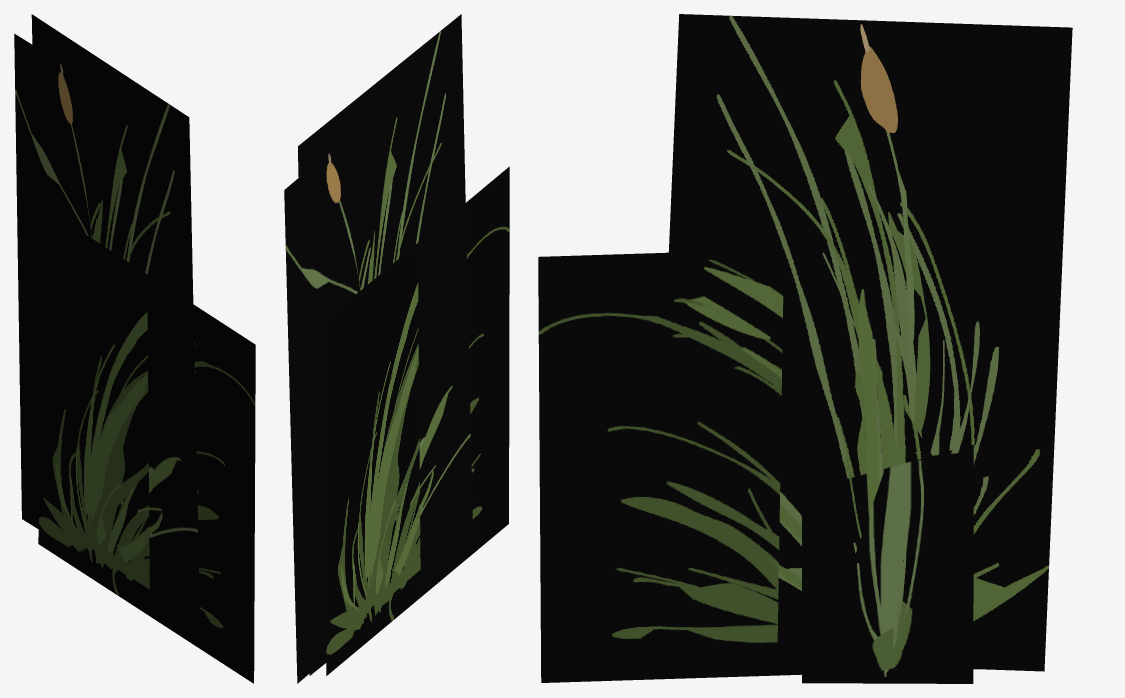
Rendered from GrassPack.fbx.
The picture shows the model from 3 angles, left to right: view 1: azimuth 30°, elevation 25°; view 2: azimuth 150°, elevation 25°; view 3: azimuth 270°, elevation 25°; orthographic projection. The views are drawn at different scales.
Parts seen in each view (by area): view 1: Grass3, grass5, Grass4; view 2: Grass3, grass5, Grass4; view 3: grass5, Grass3, Grass1, Grass6, Grass2.
Boxes of the visible parts, x1,y1,x2,y2 form: Grass3: (38,205,255,683); grass5: (31,14,200,638); Grass4: (14,33,92,528); Grass3: (326,166,509,675); grass5: (298,14,473,675); Grass4: (284,145,360,683); grass5: (668,14,1072,671); Grass3: (538,249,975,682); Grass1: (802,444,973,683); Grass6: (822,24,979,455); Grass2: (845,289,883,553).
Bounding box in the file's own units: 21.53 × 516 × 403.
6 materials, 6 textured.
